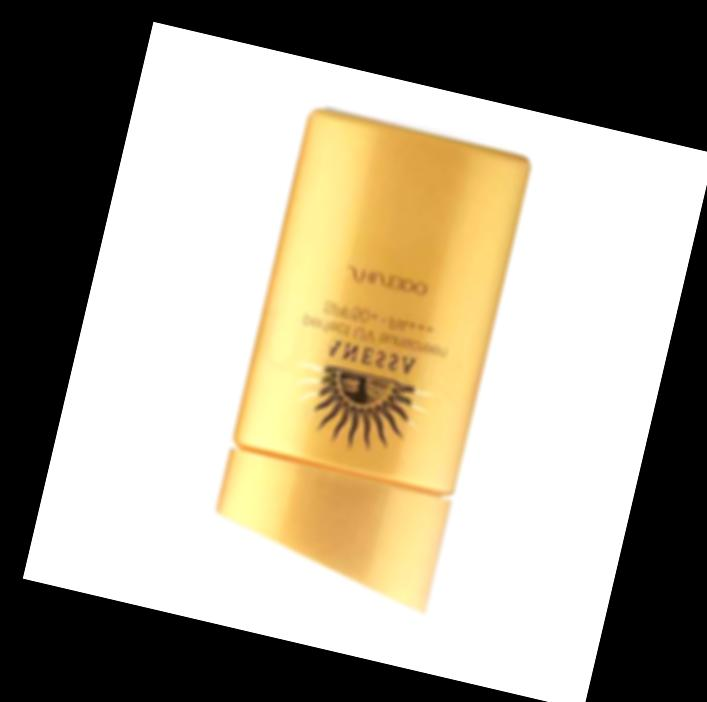cosmetic: (202, 107, 532, 628)
